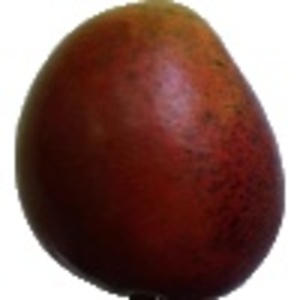manga: (14, 1, 285, 300)
